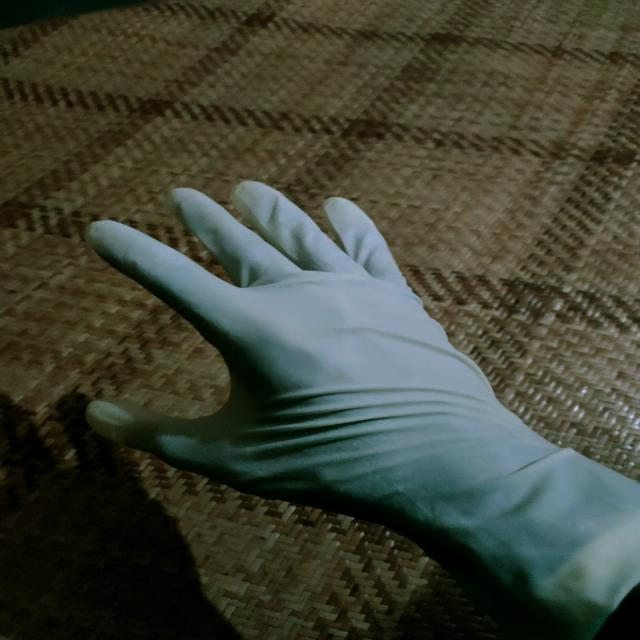glove: (78, 175, 637, 639)
